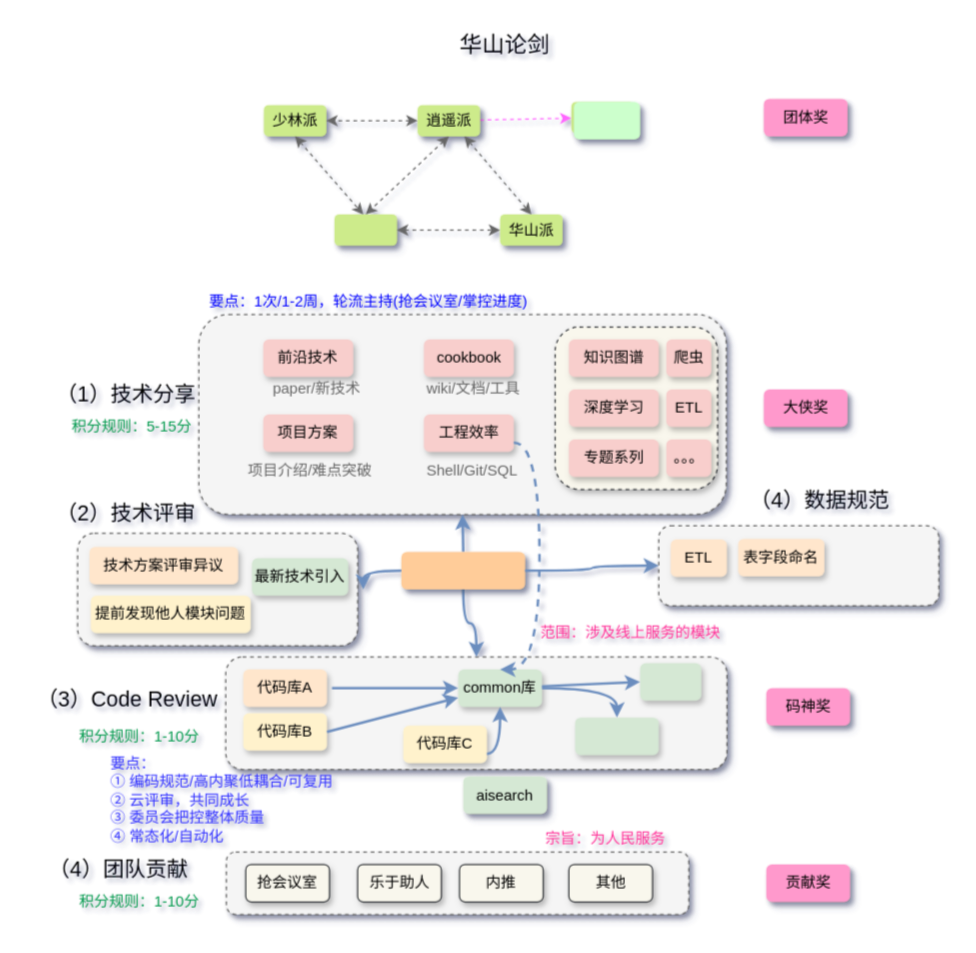
Some shapes in this 976 by 953 pixel diagram are drawn without their labels. Each missing label, with the centre of its shape:
开源工具: point (617, 737)
微服务: point (671, 683)
技术委员会: point (464, 572)
武当派: point (366, 231)
武林盟主: point (607, 122)
